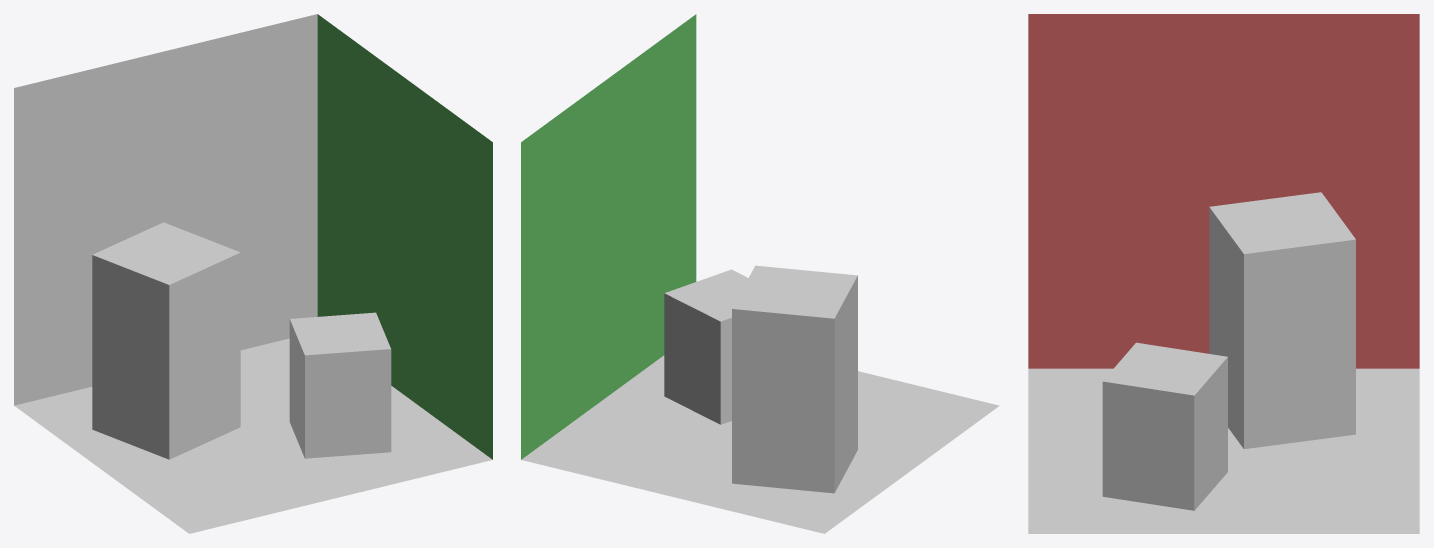
The model's file is cornell_diffuse.gltf.
The picture shows the model from 3 angles, left to right: view 1: azimuth 30°, elevation 25°; view 2: azimuth 150°, elevation 25°; view 3: azimuth 270°, elevation 25°; orthographic projection. The views are drawn at different scales.
Size of the model in its own units: 4 by 4 by 4.
